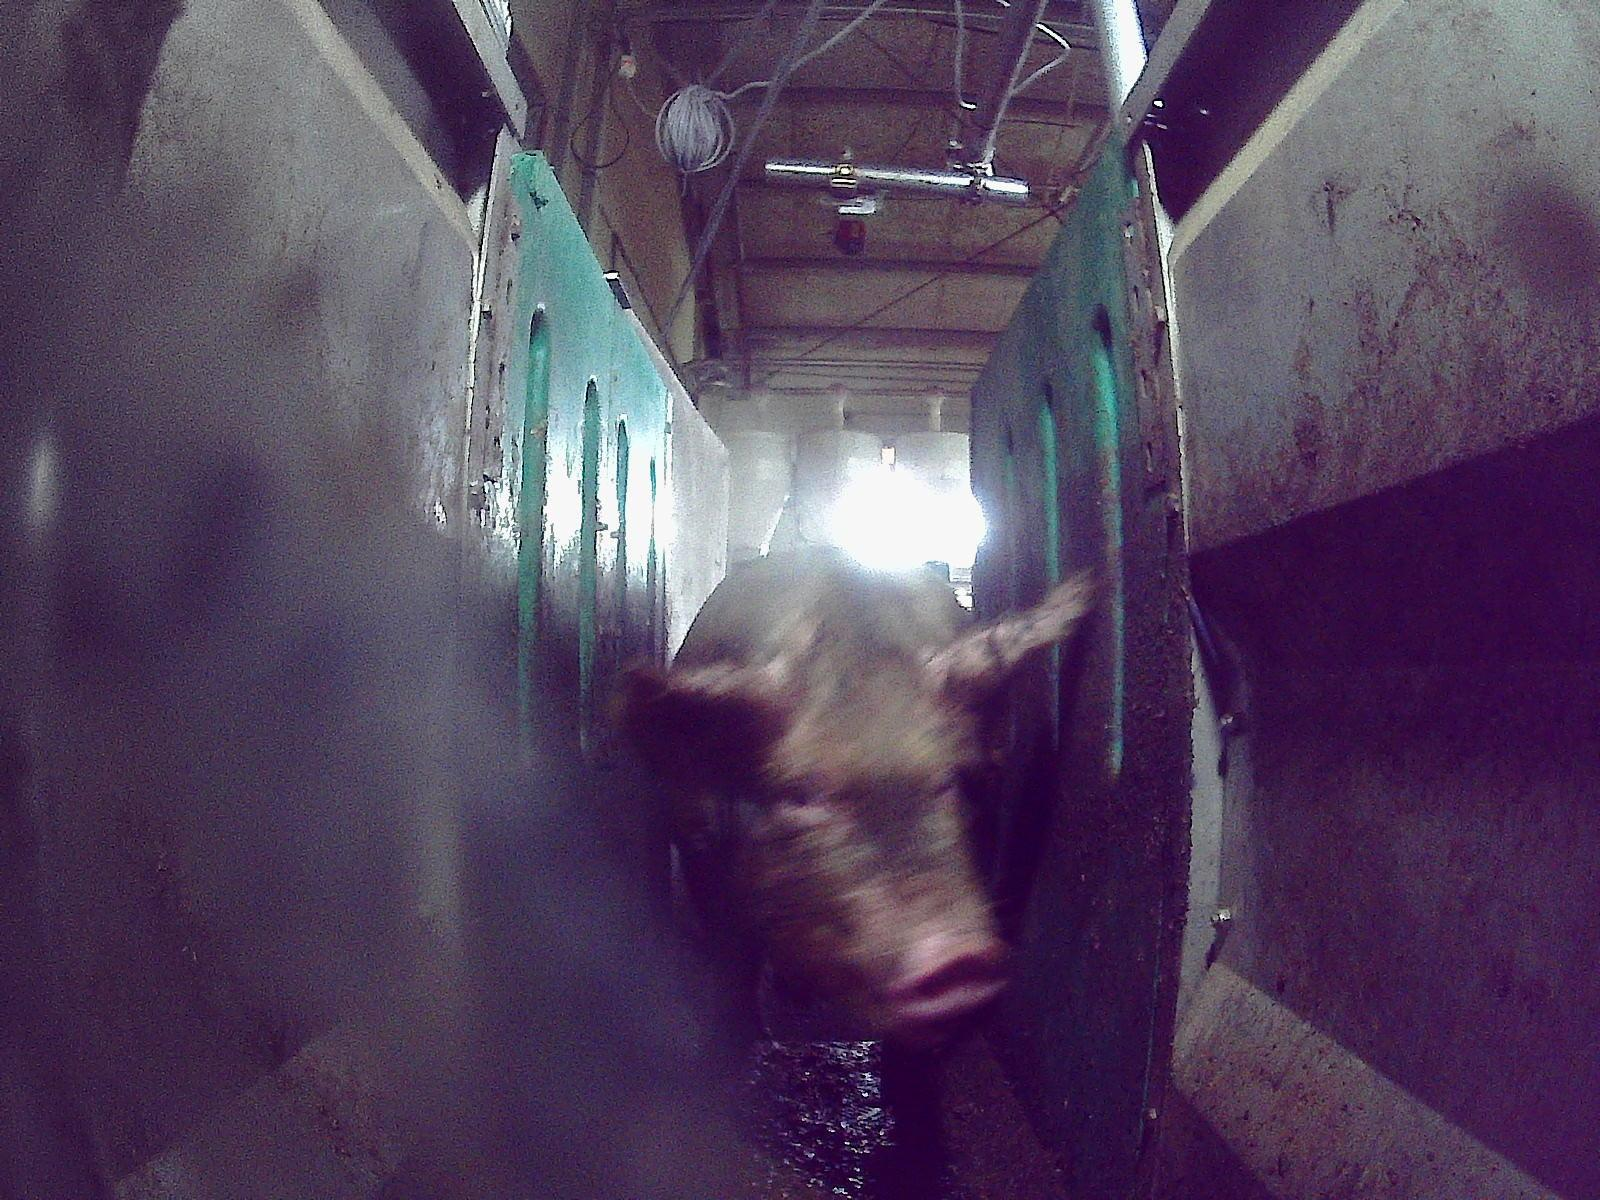Face: (736, 623, 1012, 1037)
